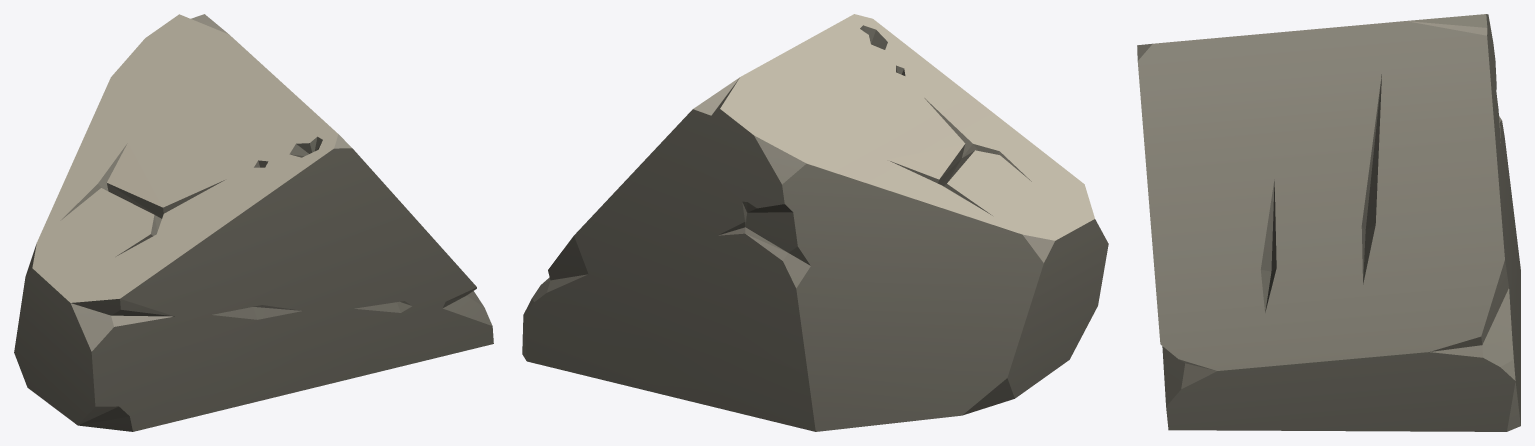
File: Rock_Medium_3C.fbx
The picture shows the model from 3 angles, left to right: view 1: azimuth 30°, elevation 25°; view 2: azimuth 150°, elevation 25°; view 3: azimuth 270°, elevation 25°; orthographic projection. The views are drawn at different scales.
Visible parts, largest first — view 1: Rock_Medium_3C; view 2: Rock_Medium_3C; view 3: Rock_Medium_3C.
Boxes of the visible parts, x1,y1,x2,y2 form: Rock_Medium_3C: (14, 14, 493, 431); Rock_Medium_3C: (522, 14, 1108, 431); Rock_Medium_3C: (1137, 14, 1520, 431).
Bounding box in the file's own units: 1.88 × 1.19 × 1.3.
